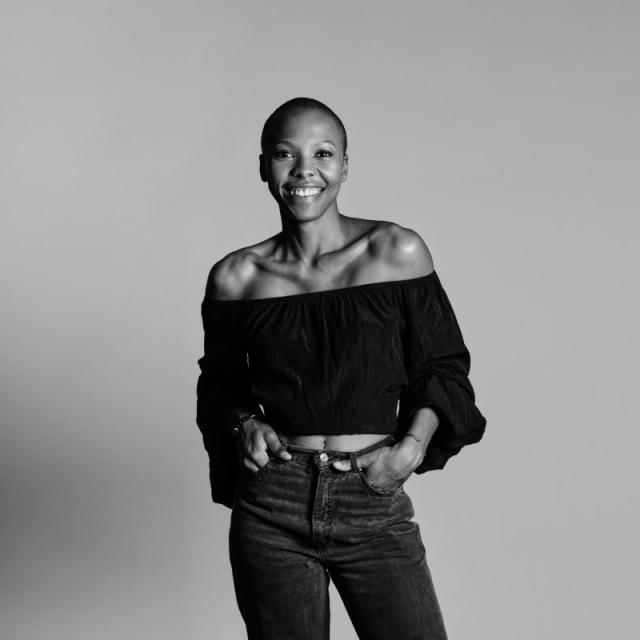sem_oculos: (254, 136, 356, 165)
